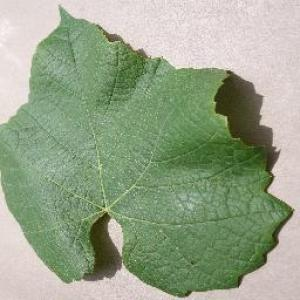Folha: (0, 2, 294, 298)
